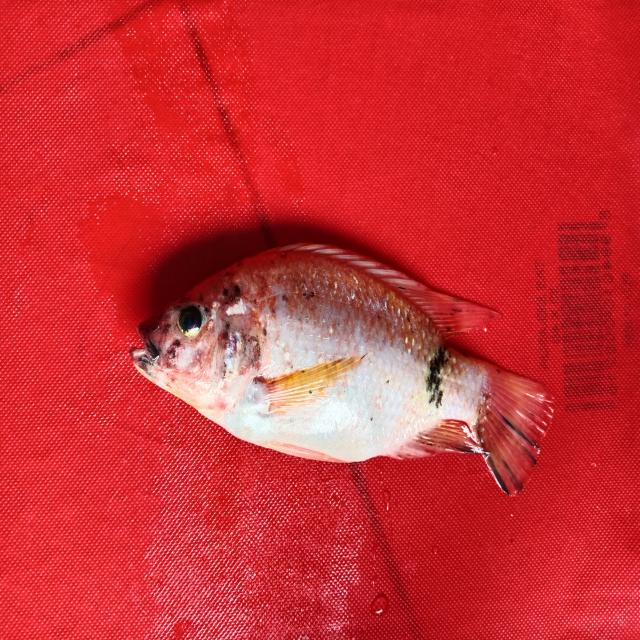ikan: (124, 222, 576, 511)
